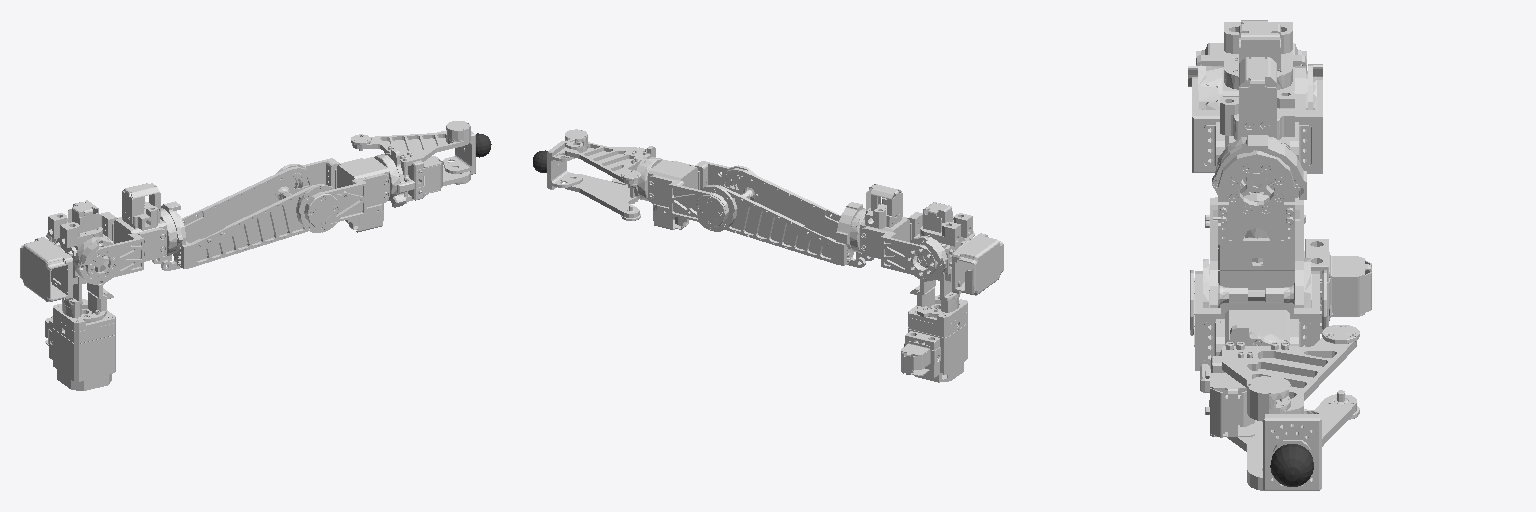
robot.urdf — hya:
<?xml version="1.0" ?>
<!-- =================================================================================== -->
<!-- |    This document was autogenerated by xacro from [local-path]/catkin_ws/src/hya_gazebo/hya_description/urdf/arm/arm.urdf.xacro | -->
<!-- |    EDITING THIS FILE BY HAND IS NOT RECOMMENDED                                 | -->
<!-- =================================================================================== -->
<!-- This was generated from arm.urdf.xacro in hya_gazebo/hya_description and modified to
remove the unneeded links and joints -->
<robot name="hya" xmlns:xacro="http://www.ros.org/wiki/xacro">
  <!-- Things that are needed only for Gazebo (not the physical robot). These include sensor and controller plugin specifications -->
  <!-- Inertial values -->
  <!-- Shoulder AA link -->
  <!-- Shoulder FE link -->
  <!-- Humerus R link -->
  <!-- Elbow FE link -->
  <!-- Wrist R link -->
  <!-- Wrist FE link -->
  <!-- <xacro:include filename="$(find hya_gazebo)/hya_description/urdf/arm/arm.transmission.xacro"/> -->
  <!-- Joints -->
  <!-- Note that it is assumed that the 6 arm joints are defined last! -->
  <!-- Shoulder AA joint -->
  <joint name="hya_saa_joint" type="revolute">
    <origin rpy="0 0 0" xyz="0 0 0"/>
    <parent link="hya_base_link"/>
    <child link="hya_shoulder_aa_link"/>
    <axis xyz="0 0 1"/>
    <dynamics damping="0.1" friction="0"/>
    <limit effort="150.0" lower="-3.1416" upper="0.5236" velocity="12.0"/>
  </joint>
  <!-- Shoulder FE joint -->
  <joint name="hya_sfe_joint" type="revolute">
    <origin rpy="1.57079632679 0 0" xyz="0 0 0.178"/>
    <parent link="hya_shoulder_aa_link"/>
    <child link="hya_shoulder_fe_link"/>
    <axis xyz="0 0 1"/>
    <dynamics damping="0.1" friction="0"/>
    <limit effort="150.0" lower="-0.7679" upper="0.8552" velocity="12.0"/>
  </joint>
  <!-- Humerus R joint -->
  <joint name="hya_hr_joint" type="revolute">
    <origin rpy="0 1.57079632679 0" xyz="0.112 0 0"/>
    <parent link="hya_shoulder_fe_link"/>
    <child link="hya_humerus_r_link"/>
    <axis xyz="0 0 1"/>
    <dynamics damping="0.1" friction="0"/>
    <limit effort="150.0" lower="-1.6406" upper="0.0698" velocity="12.0"/>
  </joint>
  <!-- Elbow FE joint -->
  <joint name="hya_efe_joint" type="revolute">
    <origin rpy="0 -1.57079632679 0" xyz="0 0 0.304"/>
    <parent link="hya_humerus_r_link"/>
    <child link="hya_elbow_fe_link"/>
    <axis xyz="0 0 1"/>
    <dynamics damping="0.1" friction="0"/>
    <limit effort="150.0" lower="0" upper="2.2689" velocity="12.0"/>
  </joint>
  <!-- Wrist R joint -->
  <joint name="hya_wr_joint" type="revolute">
    <origin rpy="0 1.57079632679 0" xyz="0.112 0 0"/>
    <parent link="hya_elbow_fe_link"/>
    <child link="hya_wrist_r_link"/>
    <axis xyz="0 0 1"/>
    <dynamics damping="0.1" friction="0"/>
    <limit effort="150.0" lower="-2.0944" upper="1.5708" velocity="12.0"/>
  </joint>
  <!-- Wrist FE joint -->
  <joint name="hya_wfe_joint" type="revolute">
    <!--origin rpy="-1.57079632679 0 -1.57079632679" xyz="0.02075 0 0.184"/-->
    <origin xyz="0.02075 0.00000 0.18400" rpy="2.3561944901923457 -1.5707962635746238 2.3561944901923457"/>
    <parent link="hya_wrist_r_link"/>
    <child link="hya_wrist_fe_link"/>
    <axis xyz="0 0 1"/>
    <dynamics damping="0.1" friction="0"/>
    <limit effort="150.0" lower="-0.5236" upper="1.5708" velocity="12.0"/>
  </joint>
  <!-- Links -->
  <!-- Heavy base link -->
  <link name="hya_base_link">
    <inertial>
      <origin xyz="0 0 0"/>
      <mass value="1.0"/>
      <inertia ixx="0" ixy="0" ixz="0" iyy="0" iyz="0" izz="0"/>
      <!--		<origin xyz="${xcom_shoulder_aa} ${ycom_shoulder_aa} ${zcom_shoulder_aa}"/>
		<mass value="${m_shoulder_aa}"/>
		<inertia ixx="${ixx_shoulder_aa}" iyy="${iyy_shoulder_aa}" izz="${izz_shoulder_aa}"
				 ixy="${ixy_shoulder_aa}" ixz="${ixz_shoulder_aa}" iyz="${iyz_shoulder_aa}"/>-->
    </inertial>
    <collision>
      <origin rpy="0 0 0" xyz="0 0 0"/>
      <geometry>
        <mesh filename="package://ct_models/urdf/HyA/meshes/base.dae" scale="1 1 1"/>
      </geometry>
    </collision>
    <visual>
      <origin rpy="0 0 0" xyz="0 0 0"/>
      <geometry>
        <mesh filename="package://ct_models/urdf/HyA/meshes/base.dae" scale="1 1 1"/>
      </geometry>
    </visual>
  </link>
  <!-- Shoulder AA link -->
  <link name="hya_shoulder_aa_link">
    <inertial>
      <origin xyz="-0.000196 -0.000361 0.003091"/>
      <mass value="2.6888738"/>
      <inertia ixx="0.004985" ixy="0.000585" ixz="-0.000613" iyy="0.007629" iyz="-0.000894" izz="0.004716"/>
    </inertial>
    <collision>
      <origin rpy="1.57079632679 0 0" xyz="0 0 0.178"/>
      <geometry>
        <mesh filename="package://ct_models/urdf/HyA/meshes/shoulder_aa.dae" scale="1 1 1"/>
      </geometry>
    </collision>
    <visual>
      <origin rpy="1.57079632679 0 0" xyz="0 0 0.178"/>
      <geometry>
        <mesh filename="package://ct_models/urdf/HyA/meshes/shoulder_aa.dae" scale="1 1 1"/>
      </geometry>
    </visual>
  </link>
  <!-- Shoulder FE link -->
  <link name="hya_shoulder_fe_link">
    <inertial>
      <origin xyz="-0.003832 -0.023382 0.0011662"/>
      <mass value="2.5924192"/>
      <inertia ixx="0.018197" ixy="-0.002752" ixz="-0.021739" iyy="0.052659" iyz="0.001261" izz="0.039003"/>
    </inertial>
    <collision>
      <origin rpy="0 1.57079632679 0" xyz="0.112 0 0"/>
      <geometry>
        <mesh filename="package://ct_models/urdf/HyA/meshes/shoulder_fe.dae" scale="1 1 1"/>
      </geometry>
    </collision>
    <visual>
      <origin rpy="0 1.57079632679 0" xyz="0.112 0 0"/>
      <geometry>
        <mesh filename="package://ct_models/urdf/HyA/meshes/shoulder_fe.dae" scale="1 1 1"/>
      </geometry>
    </visual>
  </link>
  <!-- Humerus R link -->
  <link name="hya_humerus_r_link">
    <inertial>
      <origin xyz="-0.0023905974 0.0061804946 -0.025544674"/>
      <mass value="2.3269372"/>
      <inertia ixx="0.01033" ixy="-0.00572" ixz="-0.013406" iyy="0.030957" iyz="5.4e-05" izz="0.023452"/>
    </inertial>
    <collision>
      <origin rpy="0 -1.57079632679 0" xyz="0 0 0.304"/>
      <geometry>
        <mesh filename="package://ct_models/urdf/HyA/meshes/humerus_r.dae" scale="1 1 1"/>
      </geometry>
    </collision>
    <visual>
      <origin rpy="0 -1.57079632679 0" xyz="0 0 0.304"/>
      <geometry>
        <mesh filename="package://ct_models/urdf/HyA/meshes/humerus_r.dae" scale="1 1 1"/>
      </geometry>
    </visual>
  </link>
  <!-- Elbow FE link -->
  <link name="hya_elbow_fe_link">
    <inertial>
      <origin xyz="-0.14664831 -0.011245545 0.0010224985"/>
      <mass value="1.7423721"/>
      <inertia ixx="0.081658" ixy="-0.002292" ixz="-0.000212" iyy="0.004234" iyz="-0.00271" izz="0.081661"/>
    </inertial>
    <collision>
      <origin rpy="0 1.57079632679 0" xyz="0.112 0 0"/>
      <geometry>
        <mesh filename="package://ct_models/urdf/HyA/meshes/elbow_fe.dae" scale="1 1 1"/>
      </geometry>
    </collision>
    <visual>
      <origin rpy="0 1.57079632679 0" xyz="0.112 0 0"/>
      <geometry>
        <mesh filename="package://ct_models/urdf/HyA/meshes/elbow_fe.dae" scale="1 1 1"/>
      </geometry>
    </visual>
  </link>
  <!-- Wrist R link -->
  <link name="hya_wrist_r_link">
    <inertial>
      <origin xyz="0.00039787203 -0.0026089323 -0.023167611"/>
      <mass value="2.1032866"/>
      <inertia ixx="0.019432" ixy="0.001387" ixz="0.012652" iyy="0.029115" iyz="0.001243" izz="0.011046"/>
    </inertial>
    <collision>
      <origin rpy="-1.57079632679 0 -1.57079632679" xyz="0.02075 0 0.184"/>
      <geometry>
        <mesh filename="package://ct_models/urdf/HyA/meshes/wrist_r.dae" scale="1 1 1"/>
      </geometry>
    </collision>
    <visual>
      <origin rpy="0 0 0" xyz="0 0 0.0475"/>
      <geometry>
        <mesh filename="package://ct_models/urdf/HyA/meshes/wrist_r.dae" scale="1 1 1"/>
      </geometry>
    </visual>
  </link>
  <!-- Wrist FE link -->
  <link name="hya_wrist_fe_link">
    <inertial>
      <origin xyz="-0.078762366 -0.010631221 -0.0008358458"/>
      <mass value="1.64583"/>
      <inertia ixx="0.010737" ixy="-0.000198" ixz="-1.5e-05" iyy="0.003227" iyz="0.000829" izz="0.009277"/>
    </inertial>
    <collision>
      <geometry>
        <mesh filename="package://ct_models/urdf/HyA/meshes/wrist_fe.dae" scale="1 1 1"/>
      </geometry>
    </collision>
    <visual>
      <origin xyz="0.0 0.0 0.0" rpy="0 0.0 0"/>
      <geometry>
        <mesh filename="package://ct_models/urdf/HyA/meshes/wrist_fe.dae" scale="1 1 1"/>
      </geometry>
    </visual>
  </link>
  <!-- Gazebo extensions -->
  <!-- Links -->
  <!-- Moving platform -->
  <gazebo reference="hya_platform">
    <kp>1000000.0</kp>
    <kd>100.0</kd>
    <mu1>0</mu1>
    <mu2>0</mu2>
    <fdir1>1 0 0</fdir1>
    <maxVel>100.0</maxVel>
    <minDepth>0.00</minDepth>
    <selfCollide>true</selfCollide>
    <material>Gazebo/Blue</material>
    <gravity>false</gravity>
  </gazebo>
  <!-- Base link -->
  <gazebo reference="hya_base_link">
    <kp>1000000.0</kp>
    <kd>100.0</kd>
    <mu1>0</mu1>
    <!-- Was 1.5 for mu1 and mu2 -->
    <mu2>0</mu2>
    <fdir1>1 0 0</fdir1>
    <maxVel>1.0</maxVel>
    <minDepth>0.00</minDepth>
    <selfCollide>true</selfCollide>
  </gazebo>
  <!-- Shoulder AA link -->
  <gazebo reference="hya_shoulder_aa_link">
    <kp>1000000.0</kp>
    <kd>100.0</kd>
    <mu1>0</mu1>
    <mu2>0</mu2>
    <fdir1>1 0 0</fdir1>
    <maxVel>1.0</maxVel>
    <minDepth>0.00</minDepth>
    <selfCollide>true</selfCollide>
  </gazebo>
  <!-- Shoulder FE link -->
  <gazebo reference="hya_shoulder_fe_link">
    <kp>1000000.0</kp>
    <kd>100.0</kd>
    <mu1>0</mu1>
    <mu2>0</mu2>
    <fdir1>1 0 0</fdir1>
    <maxVel>1.0</maxVel>
    <minDepth>0.00</minDepth>
    <selfCollide>true</selfCollide>
  </gazebo>
  <!-- Humerus HR link -->
  <gazebo reference="hya_humerus_r_link">
    <kp>1000000.0</kp>
    <kd>100.0</kd>
    <mu1>0</mu1>
    <mu2>0</mu2>
    <fdir1>1 0 0</fdir1>
    <maxVel>1.0</maxVel>
    <minDepth>0.00</minDepth>
    <selfCollide>true</selfCollide>
  </gazebo>
  <!-- Elbow FE link -->
  <gazebo reference="hya_elbow_fe_link">
    <kp>1000000.0</kp>
    <kd>100.0</kd>
    <mu1>0</mu1>
    <mu2>0</mu2>
    <fdir1>1 0 0</fdir1>
    <maxVel>1.0</maxVel>
    <minDepth>0.00</minDepth>
    <selfCollide>true</selfCollide>
  </gazebo>
  <!-- Wrist WR link -->
  <gazebo reference="hya_wrist_r_link">
    <kp>1000000.0</kp>
    <kd>100.0</kd>
    <mu1>0</mu1>
    <mu2>0</mu2>
    <fdir1>1 0 0</fdir1>
    <maxVel>1.0</maxVel>
    <minDepth>0.00</minDepth>
    <selfCollide>true</selfCollide>
  </gazebo>
  <!-- Wrist FE link -->
  <gazebo reference="hya_wrist_fe_link">
    <kp>1000000.0</kp>
    <kd>100.0</kd>
    <mu1>0</mu1>
    <mu2>0</mu2>
    <fdir1>1 0 0</fdir1>
    <maxVel>1.0</maxVel>
    <minDepth>0.00</minDepth>
    <selfCollide>true</selfCollide>
  </gazebo>
  <!-- Plugins -->
  <gazebo>
    <plugin filename="libdisturbance_plugin.so" name="DisturbancePlugin">
      <robotName>hya</robotName>
      <amplitude>0.1</amplitude>
      <period>2.0</period>
    </plugin>
    <plugin filename="libid_plugin.so" name="IDPlugin">
      <robotName>hya</robotName>
      <SAA_init>0</SAA_init>
      <SFE_init>0</SFE_init>
      <HR_init>-0.7854</HR_init>
      <EFE_init>0.7854</EFE_init>
      <WR_init>0.7854</WR_init>
      <WFE_init>0</WFE_init>
    </plugin>
  </gazebo>
</robot>

--- Facts derived from the render (not from the file) ---
The picture shows the robot from 3 angles, left to right: view 1: azimuth 30°, elevation 25°; view 2: azimuth 150°, elevation 25°; view 3: azimuth 270°, elevation 25°; orthographic projection.
Model hya with 7 links and 6 joints (6 revolute), rooted at hya_base_link, posed all joints at 0.
Links seen in each view (by area): view 1: hya_humerus_r_link, hya_shoulder_aa_link, hya_shoulder_fe_link, hya_elbow_fe_link, hya_base_link, hya_wrist_r_link, hya_wrist_fe_link; view 2: hya_humerus_r_link, hya_shoulder_aa_link, hya_shoulder_fe_link, hya_elbow_fe_link, hya_base_link, hya_wrist_r_link, hya_wrist_fe_link; view 3: hya_wrist_r_link, hya_shoulder_fe_link, hya_humerus_r_link, hya_base_link, hya_shoulder_aa_link, hya_elbow_fe_link, hya_wrist_fe_link.
Boxes of the visible links, x1,y1,x2,y2 form: hya_humerus_r_link: [152, 164, 338, 270]; hya_shoulder_aa_link: [20, 200, 113, 322]; hya_shoulder_fe_link: [85, 183, 182, 280]; hya_elbow_fe_link: [287, 149, 405, 232]; hya_base_link: [45, 304, 115, 390]; hya_wrist_r_link: [351, 121, 470, 203]; hya_wrist_fe_link: [443, 131, 491, 174]; hya_humerus_r_link: [696, 165, 873, 267]; hya_shoulder_aa_link: [910, 202, 1003, 317]; hya_shoulder_fe_link: [836, 184, 939, 276]; hya_elbow_fe_link: [632, 146, 745, 229]; hya_base_link: [901, 299, 967, 382]; hya_wrist_r_link: [565, 129, 646, 220]; hya_wrist_fe_link: [533, 141, 582, 189]; hya_wrist_r_link: [1200, 325, 1359, 490]; hya_shoulder_fe_link: [1192, 57, 1322, 199]; hya_humerus_r_link: [1190, 150, 1326, 346]; hya_base_link: [1215, 197, 1371, 333]; hya_shoulder_aa_link: [1188, 20, 1322, 262]; hya_elbow_fe_link: [1195, 268, 1319, 406]; hya_wrist_fe_link: [1263, 409, 1321, 490].
Size in the robot's own frame: 0.8812 by 0.1659 by 0.3223 metres.
Meshes: 7 distinct files referenced, 7 mesh visuals loaded (7 Collada DAE).